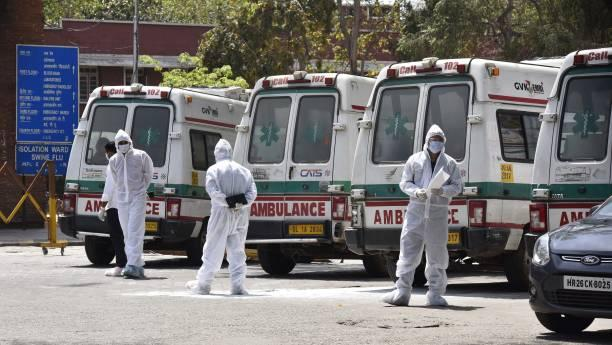AMBULANCE: (472, 104, 531, 206), (366, 55, 484, 90), (248, 111, 346, 152), (247, 189, 348, 228), (246, 66, 338, 101), (89, 76, 176, 112), (451, 198, 500, 244), (553, 100, 606, 137), (150, 183, 183, 234), (551, 49, 612, 76), (373, 107, 413, 146), (529, 199, 592, 223), (365, 203, 402, 241), (134, 120, 169, 151), (74, 194, 101, 222)
